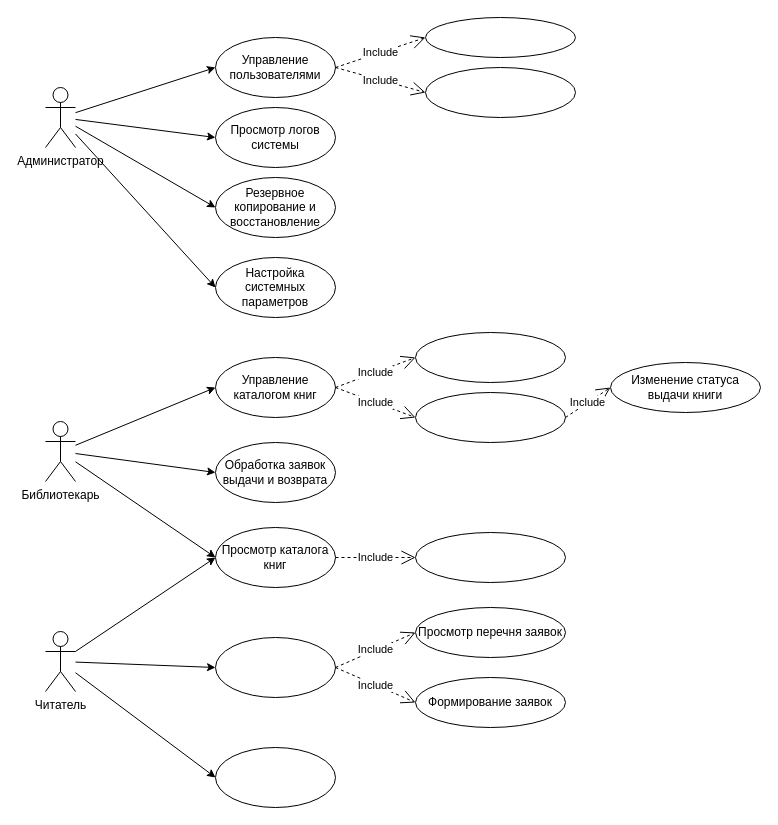
This 778x825 diagram has some shape labels left out. Here are the shapes that lost their labels. From the top down, the box of each, then its label:
(424, 16, 576, 58): Создание пользователей
(424, 66, 576, 118): Управление правами доступа
(414, 332, 566, 382): Регистрация новых книг
(414, 392, 566, 442): Изменение данных существующих книг
(414, 532, 566, 582): Параметрический поиск
(214, 636, 336, 698): Управление заявками
(214, 746, 336, 808): Изменение данных личного кабинета
